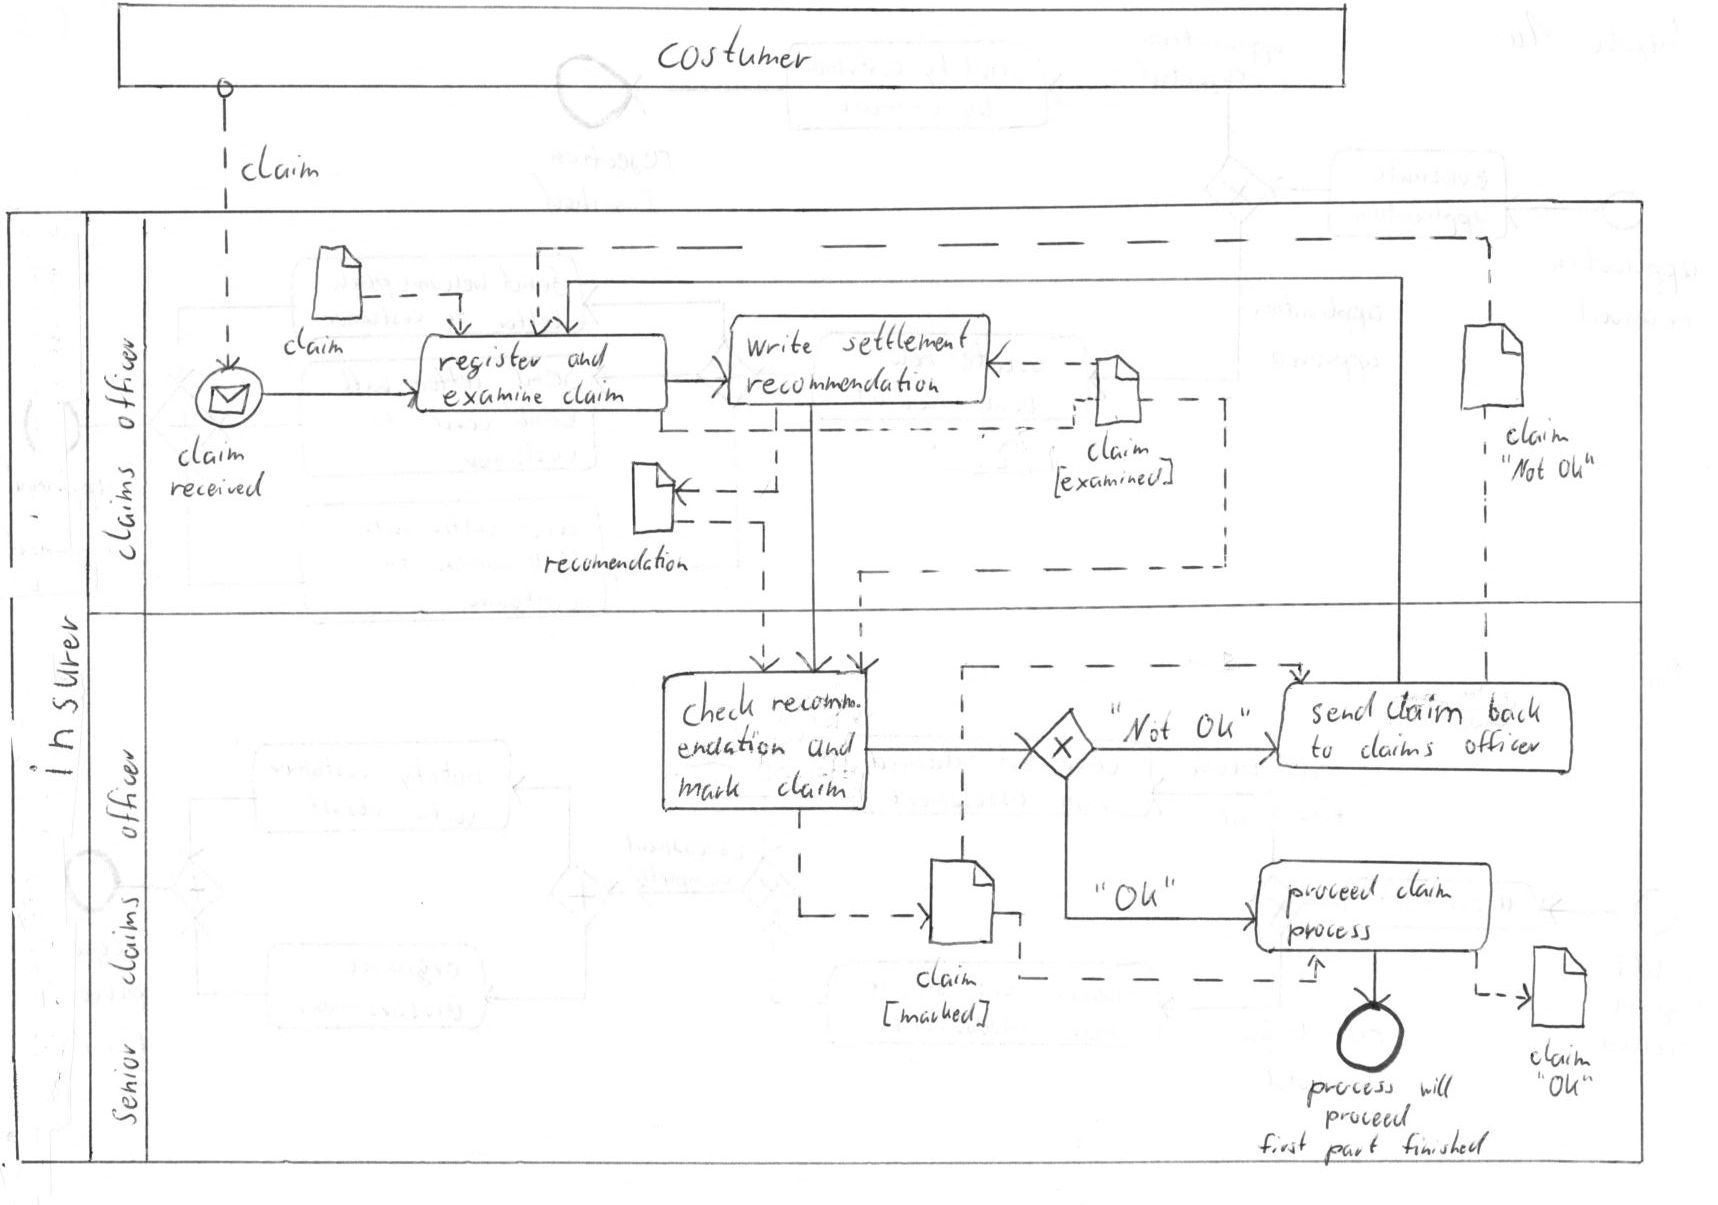Not: (1102, 695, 1180, 749), (1493, 449, 1552, 488)
Ok: (1085, 871, 1181, 916), (1191, 701, 1256, 745), (1530, 1067, 1599, 1102), (1554, 449, 1601, 486)
Senior: (104, 1037, 144, 1132)
[examined]: (1048, 452, 1179, 507)
[marked]: (876, 992, 997, 1037)
and: (800, 725, 863, 762), (561, 338, 614, 373)
back: (1482, 687, 1550, 728)
check: (674, 675, 761, 732)
claim: (232, 137, 326, 188), (1379, 685, 1470, 732), (769, 762, 852, 806), (171, 428, 251, 473), (1080, 424, 1157, 470), (1500, 409, 1574, 450), (277, 320, 350, 362), (909, 956, 984, 995), (1523, 1033, 1597, 1073), (1389, 864, 1460, 906), (556, 373, 631, 409)
claims: (93, 458, 142, 568), (99, 889, 144, 994), (1352, 725, 1441, 766)
costumer: (650, 16, 819, 77)
endation: (671, 718, 792, 768)
examine: (435, 380, 552, 413)
finished: (1394, 1125, 1497, 1162)
first: (1251, 1123, 1315, 1161)
insurer: (18, 607, 87, 785)
mark: (672, 769, 745, 806)
officer: (97, 740, 148, 847), (94, 330, 142, 437), (1460, 725, 1547, 762)
part: (1319, 1129, 1385, 1171)
proceed: (1279, 867, 1385, 926), (1319, 1097, 1419, 1137)
process: (1302, 1073, 1399, 1115), (1281, 916, 1379, 950)
received: (164, 463, 270, 507)
recomendation: (537, 540, 695, 582)
recomm.: (765, 687, 866, 718)
recommendation: (739, 360, 945, 401)
register: (429, 336, 548, 386)
send: (1304, 685, 1384, 731)
settlement: (836, 315, 978, 362)
to: (1304, 728, 1339, 764)
will: (1413, 1067, 1460, 1104)
write: (739, 322, 819, 363)
